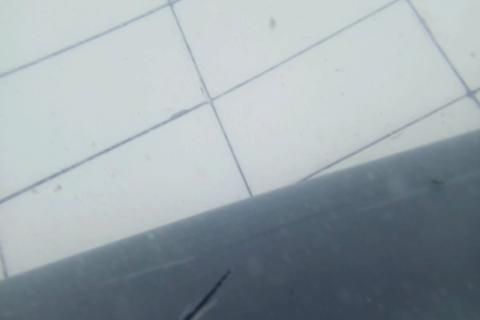keretakan: (183, 268, 233, 320)
